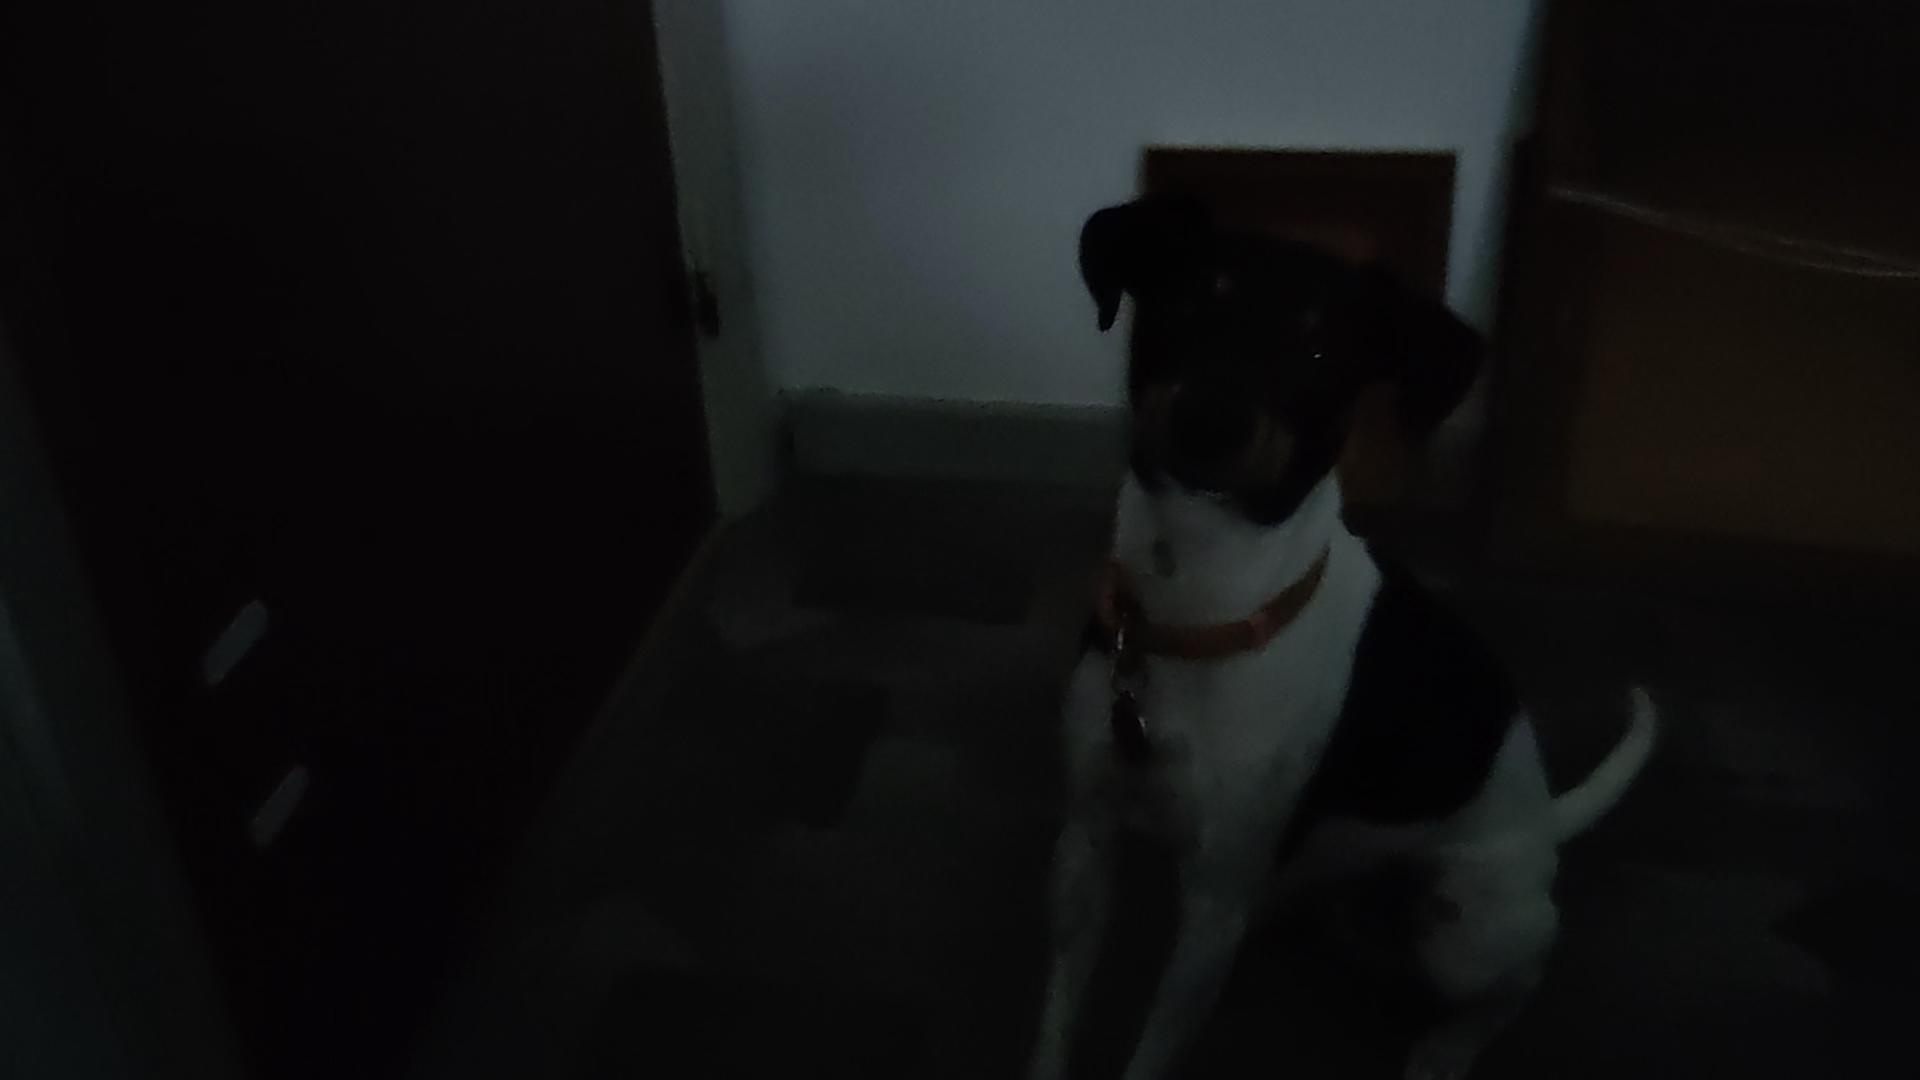Dog: (1022, 185, 1667, 1079)
